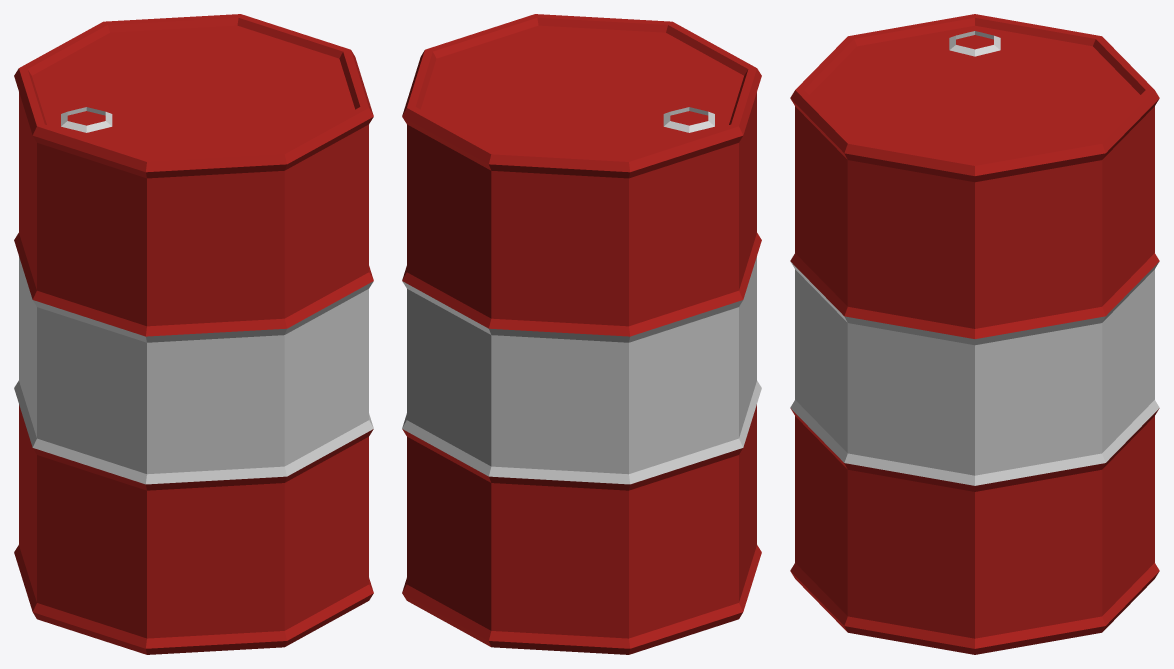
The model's file is DrumRedWhite.fbx.
3 views of the same model, side by side, from view 1: azimuth 30°, elevation 25°; view 2: azimuth 150°, elevation 25°; view 3: azimuth 270°, elevation 25° (orthographic).
Visible parts, largest first — view 1: Cylinder; view 2: Cylinder; view 3: Cylinder.
Part boxes in pixels (<box>): Cylinder: <box>14,14,373,654</box>; Cylinder: <box>402,14,761,654</box>; Cylinder: <box>790,14,1159,654</box>.
Size of the model in its own units: 0.822 by 1.2 by 0.822.
